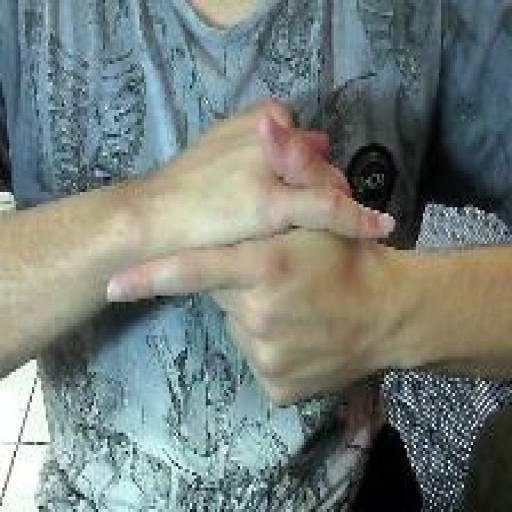U -hare-: (100, 90, 398, 416)
